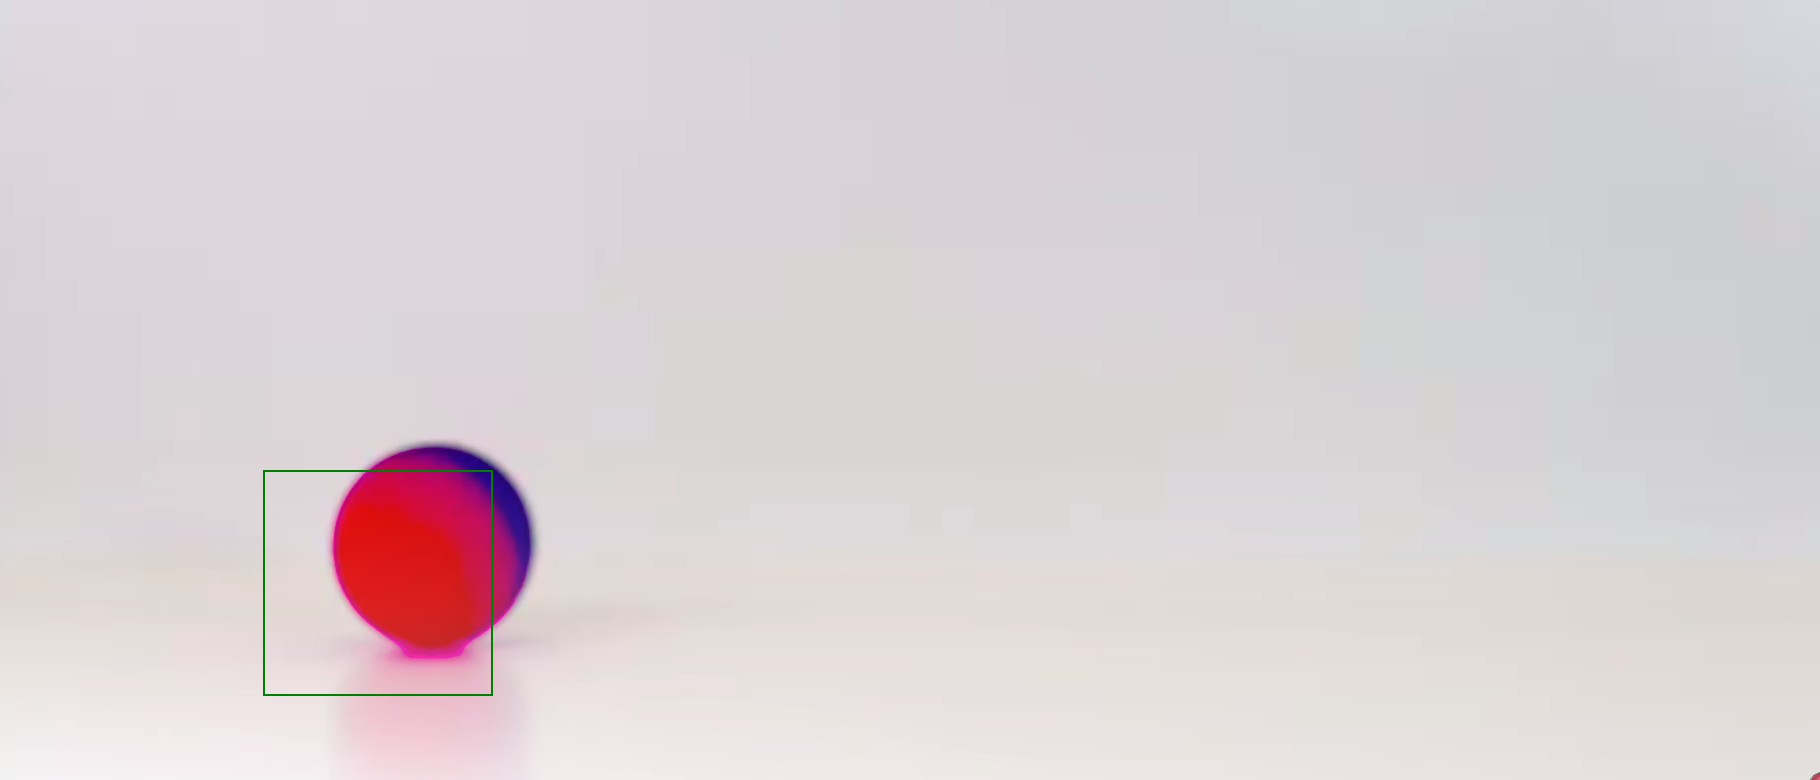Circle: (328, 446, 535, 660)
